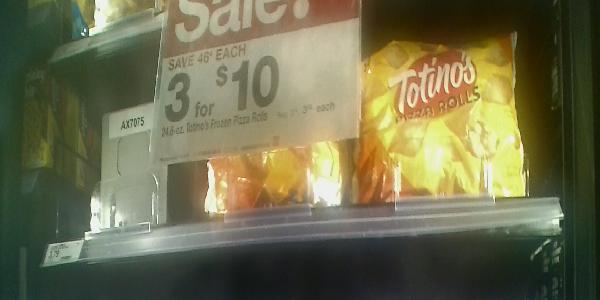icecream: (347, 19, 536, 201), (148, 54, 342, 208)
